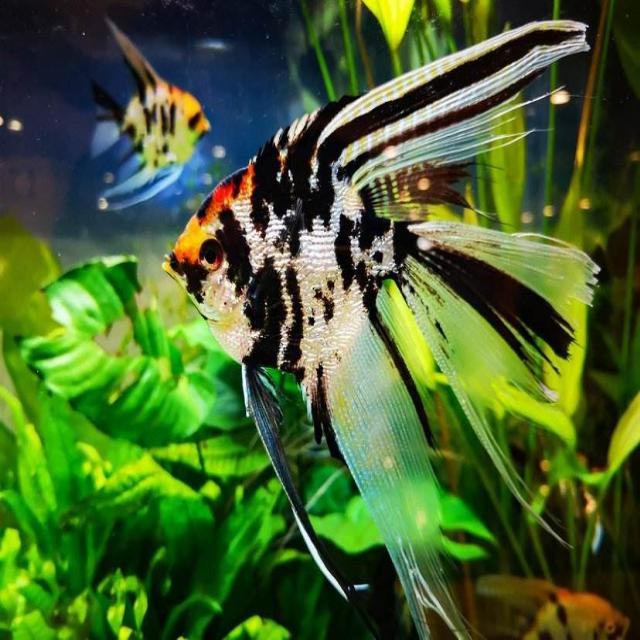AngelFish: (158, 21, 594, 624), (71, 12, 211, 213)
